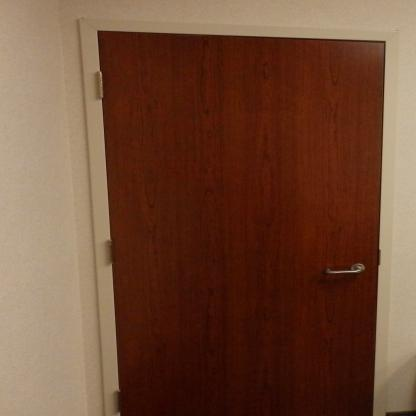door: (93, 31, 374, 415)
hinged: (96, 68, 106, 100), (107, 240, 118, 265), (114, 390, 125, 414)
lever: (322, 265, 364, 278)
